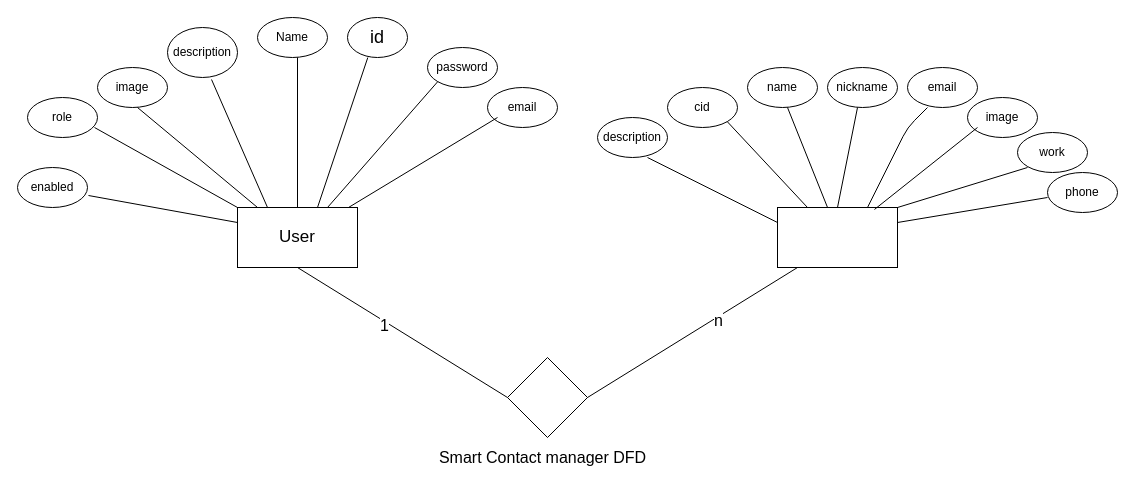
The diagram is 1135 pixels wide and 485 high, and some of its shapes have lost their labels. Here are the shapes that lost their labels. From the top down, the box of each, then its label:
(776, 206, 898, 268): Contact
(506, 356, 588, 438): has
